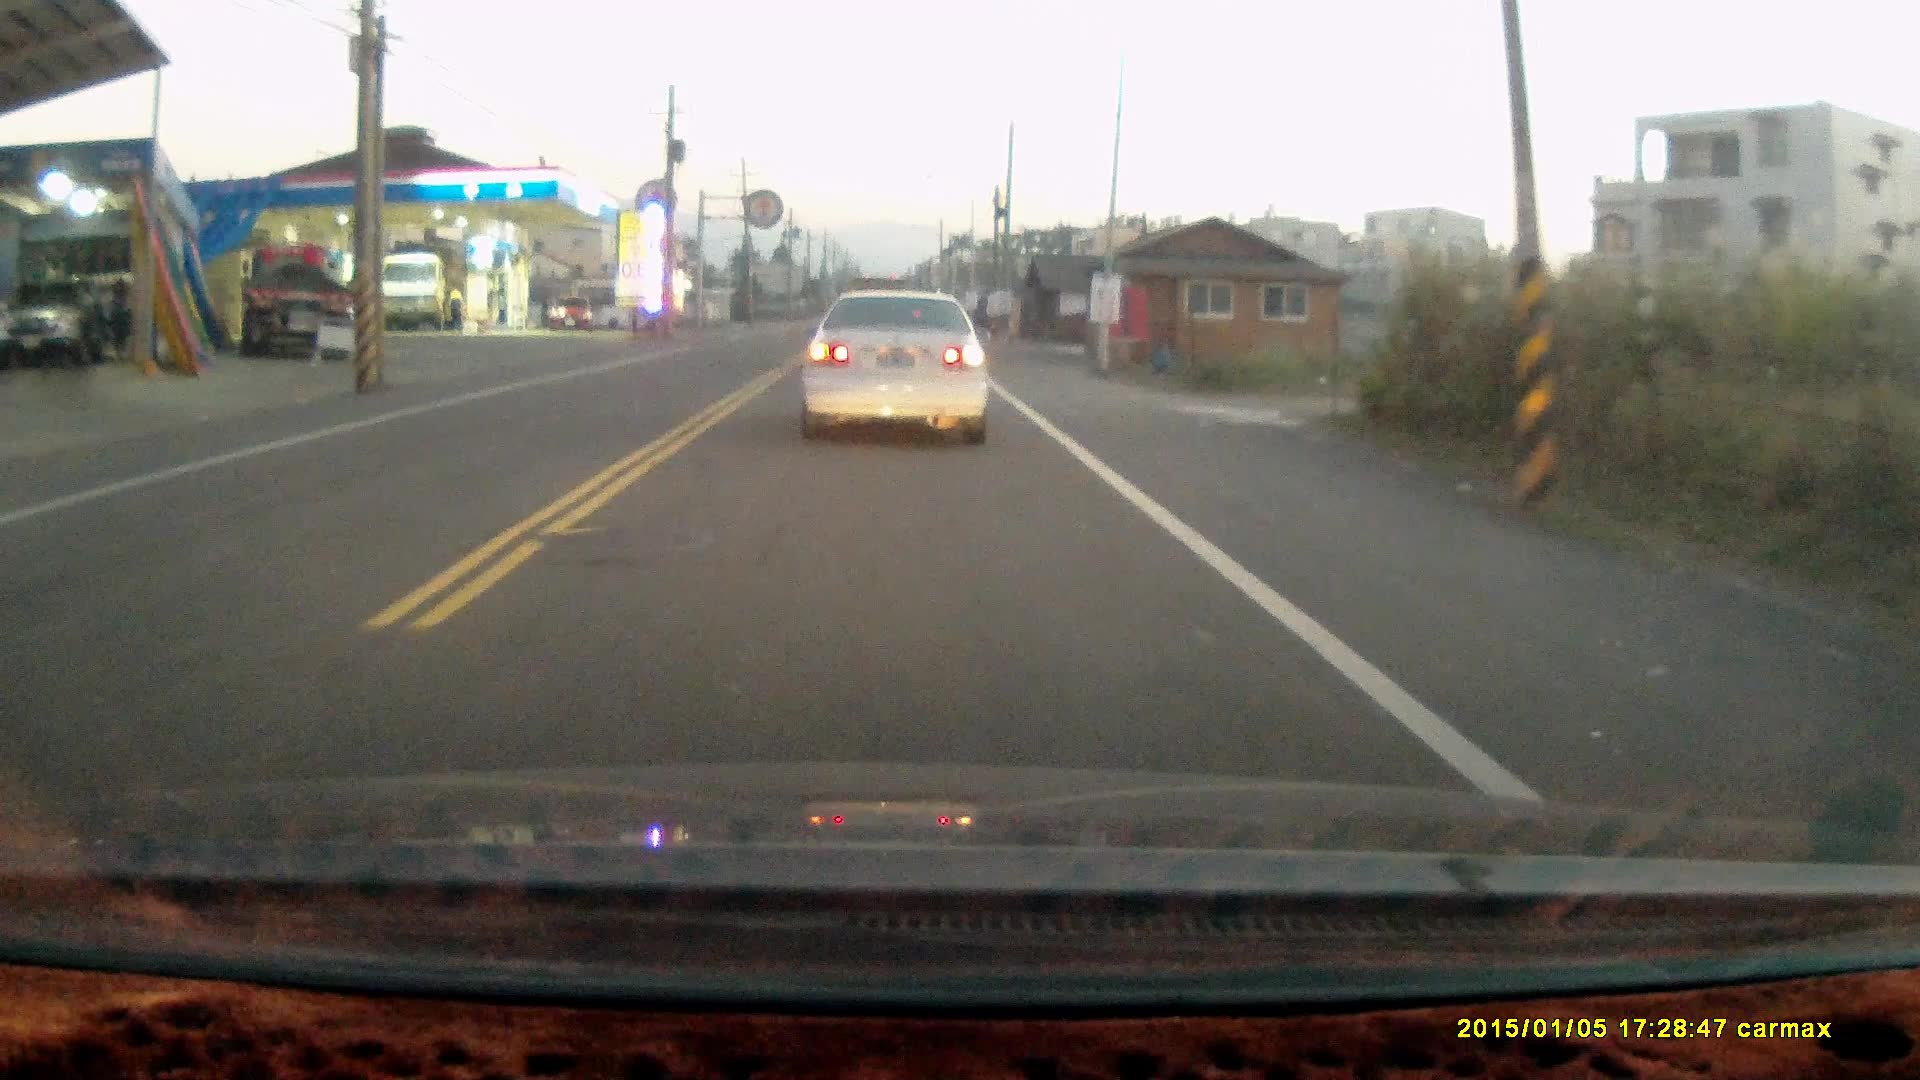pedestrian: (445, 283, 466, 330)
vehicle: (795, 283, 995, 450), (237, 243, 349, 357), (381, 254, 460, 338), (551, 298, 594, 334)
